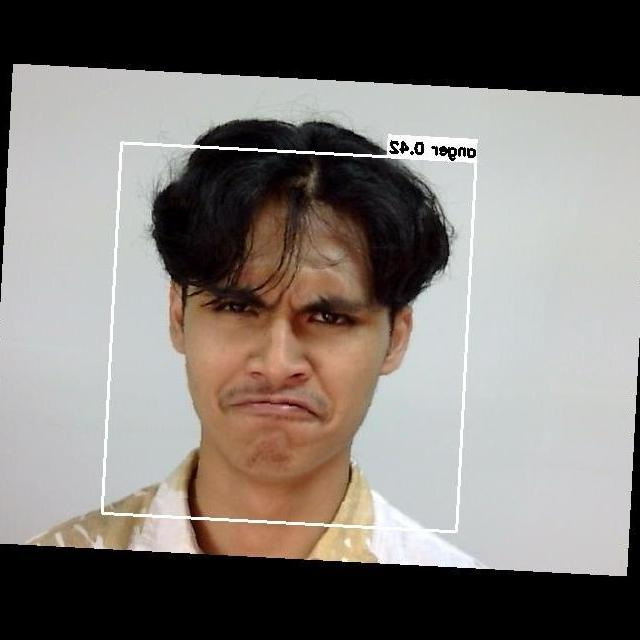Sad: (181, 240, 372, 452)
